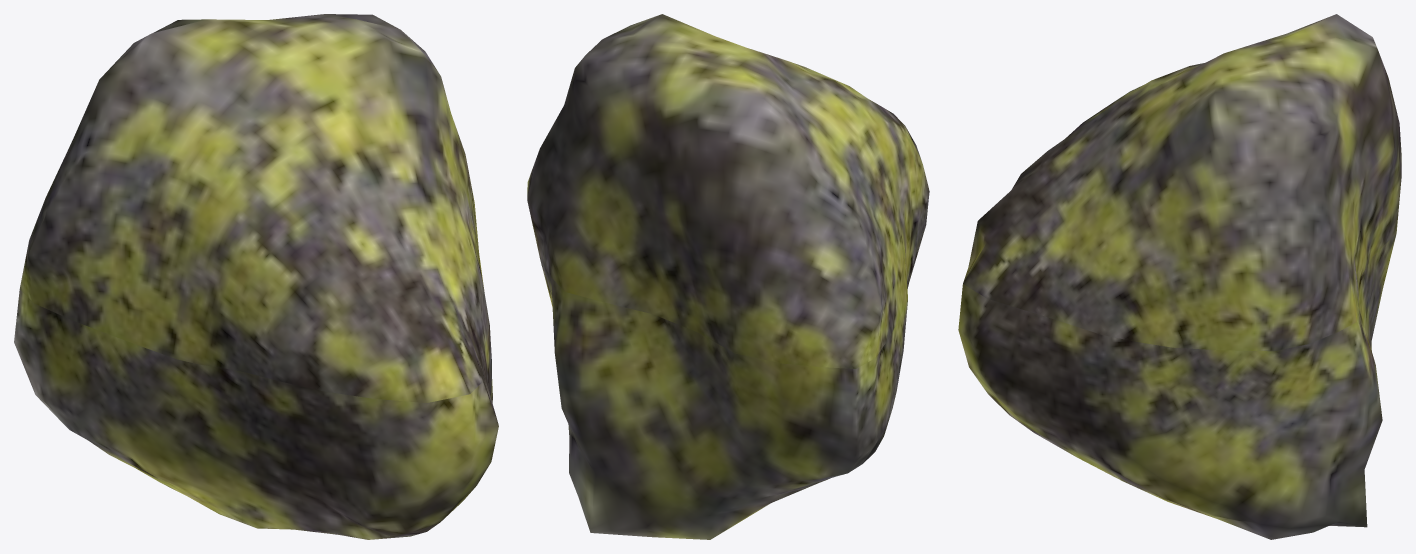
Rendered from sulphur_rock.fbx.
3 renders of one model, left to right at view 1: azimuth 30°, elevation 25°; view 2: azimuth 150°, elevation 25°; view 3: azimuth 270°, elevation 25°, orthographic. The views are drawn at different scales.
Visible parts, largest first — view 1: Cube; view 2: Cube; view 3: Cube.
Boxes of the visible parts, bbox=[...] form: Cube: bbox=[14, 14, 498, 539]; Cube: bbox=[527, 14, 929, 539]; Cube: bbox=[958, 14, 1401, 539].
Size of the model in its own units: 1.71 by 1.98 by 1.78.
Materials: 1 (1 with a texture image).
